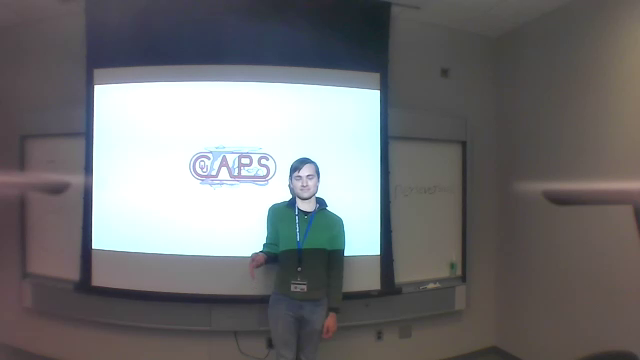down: (247, 247, 267, 283)
